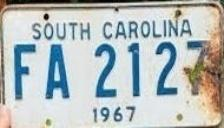1: (126, 40, 146, 100)
2: (153, 40, 181, 98), (93, 43, 120, 99)
7: (184, 37, 214, 103)
A: (43, 43, 71, 102)
F: (11, 42, 39, 103)
